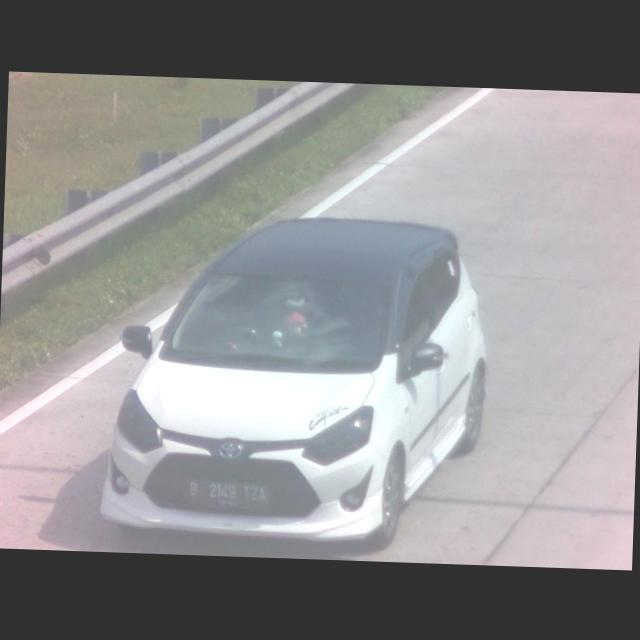plate: (183, 476, 269, 510)
